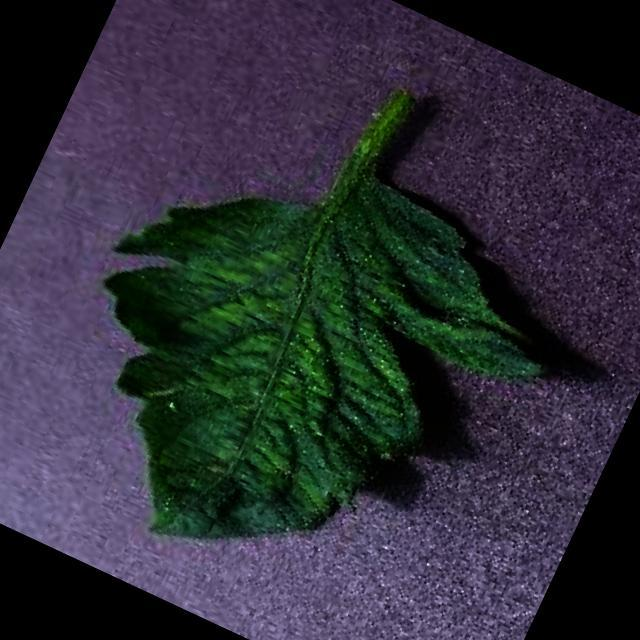Tomato mosaic virus leaf: (11, 85, 596, 640)
